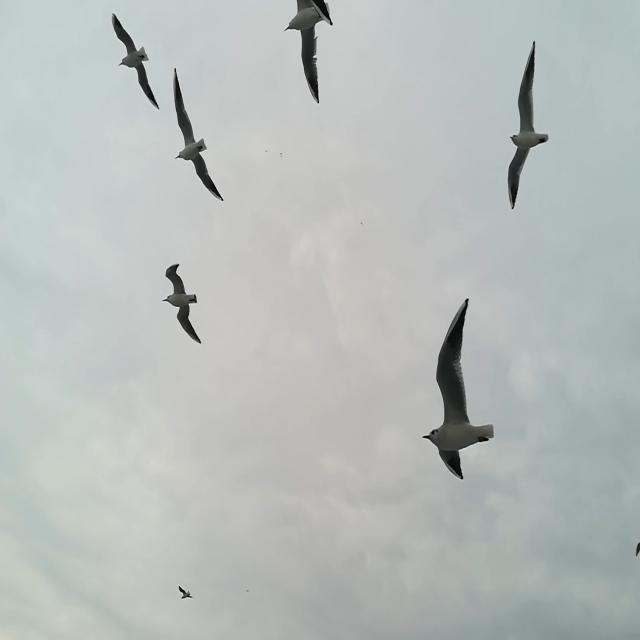bird: (422, 293, 494, 482), (506, 40, 550, 212), (171, 69, 224, 202), (282, 1, 336, 103), (110, 13, 158, 110), (161, 266, 202, 344), (178, 582, 195, 605), (634, 540, 640, 559)
